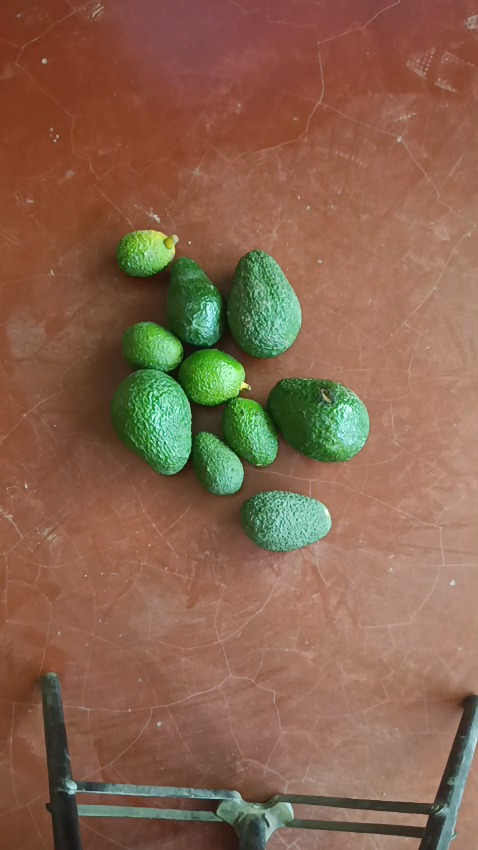Primera: (110, 369, 194, 474), (266, 377, 369, 461), (226, 249, 300, 357), (115, 228, 176, 277)
Segunda: (240, 489, 332, 550), (166, 257, 224, 348)
Tercera: (221, 397, 279, 467), (177, 348, 246, 406), (121, 322, 185, 373), (191, 431, 243, 493)
